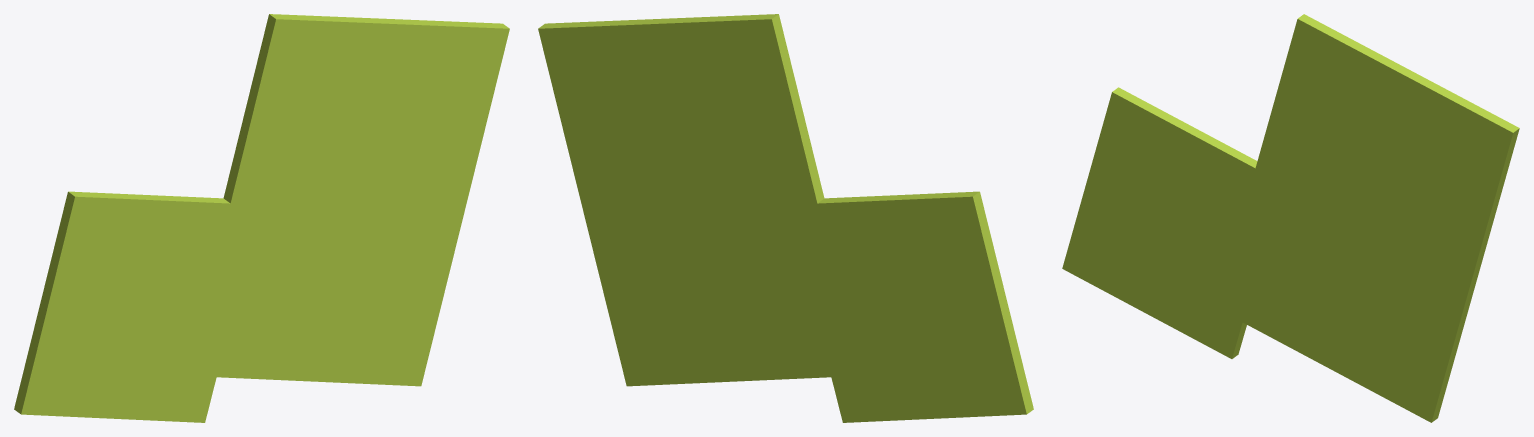
3 renders of one model, left to right at view 1: azimuth 30°, elevation 25°; view 2: azimuth 150°, elevation 25°; view 3: azimuth 330°, elevation 25°, orthographic. The views are drawn at different scales.
Parts seen in each view (by area): view 1: osm-way27917482-F2; view 2: osm-way27917482-F2; view 3: osm-way27917482-F2.
Part boxes in pixels (box(x1,y1,x2,y2)): osm-way27917482-F2: box(14, 14, 509, 422); osm-way27917482-F2: box(538, 14, 1033, 422); osm-way27917482-F2: box(1062, 14, 1519, 422).
Bounding box in the file's own units: 5.98 × 4.7 × 0.15.
